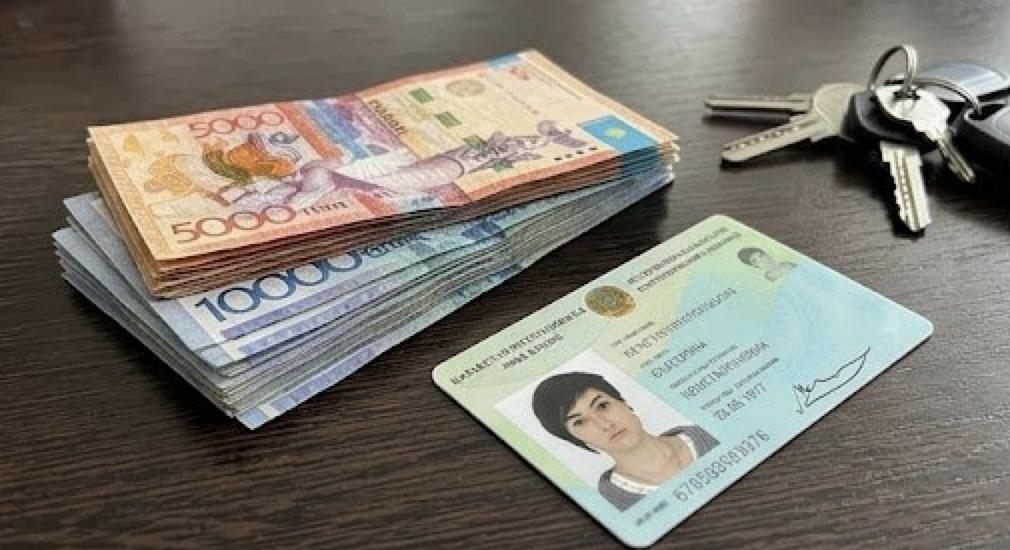cash_stack: (53, 45, 676, 426)
document: (434, 216, 944, 542)
